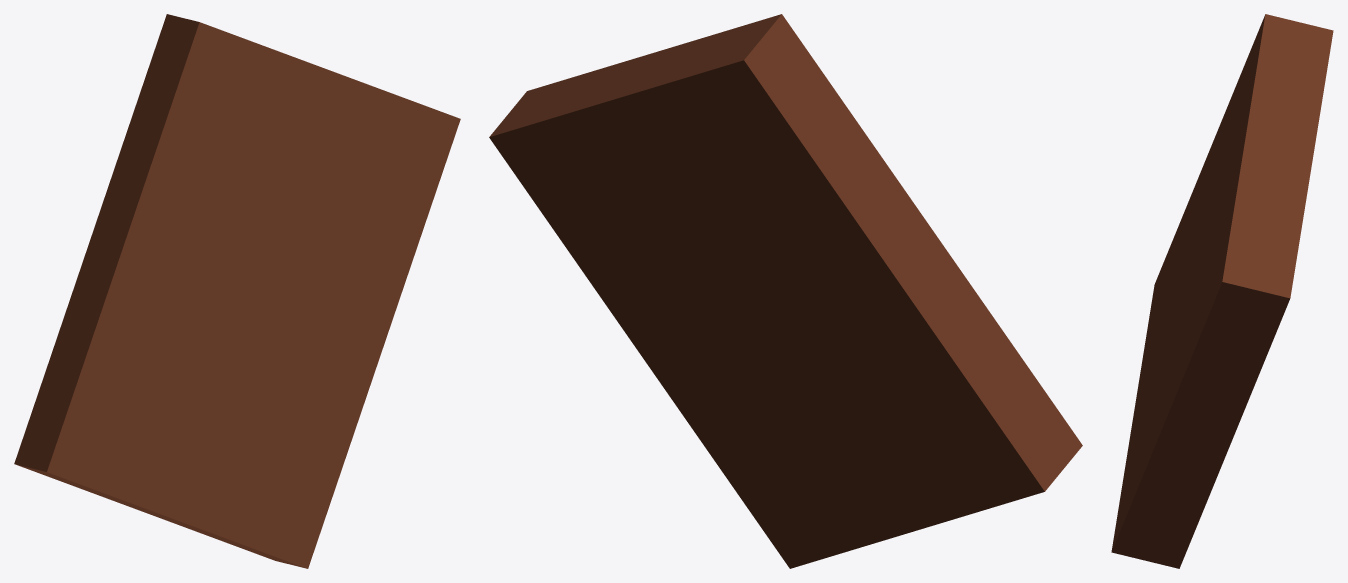
Rendered from drop_chocolate.fbx.
The picture shows the model from 3 angles, left to right: view 1: azimuth 30°, elevation 25°; view 2: azimuth 150°, elevation 25°; view 3: azimuth 270°, elevation 25°; orthographic projection. The views are drawn at different scales.
Parts seen in each view (by area): view 1: Cube; view 2: Cube; view 3: Cube.
Part boxes in pixels (x1,y1,x2,y2): Cube: [14, 14, 460, 568]; Cube: [489, 14, 1082, 568]; Cube: [1111, 14, 1333, 568].
Size of the model in its own units: 322 by 356 by 133.
